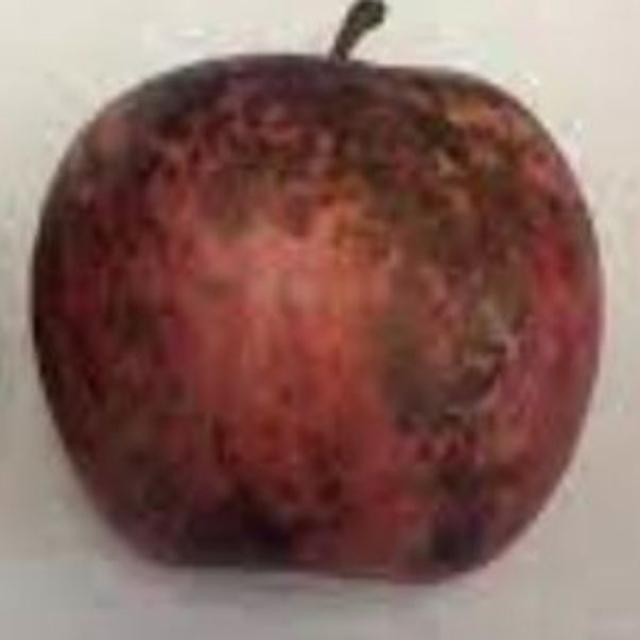Rotten Apple: (28, 36, 590, 634)
